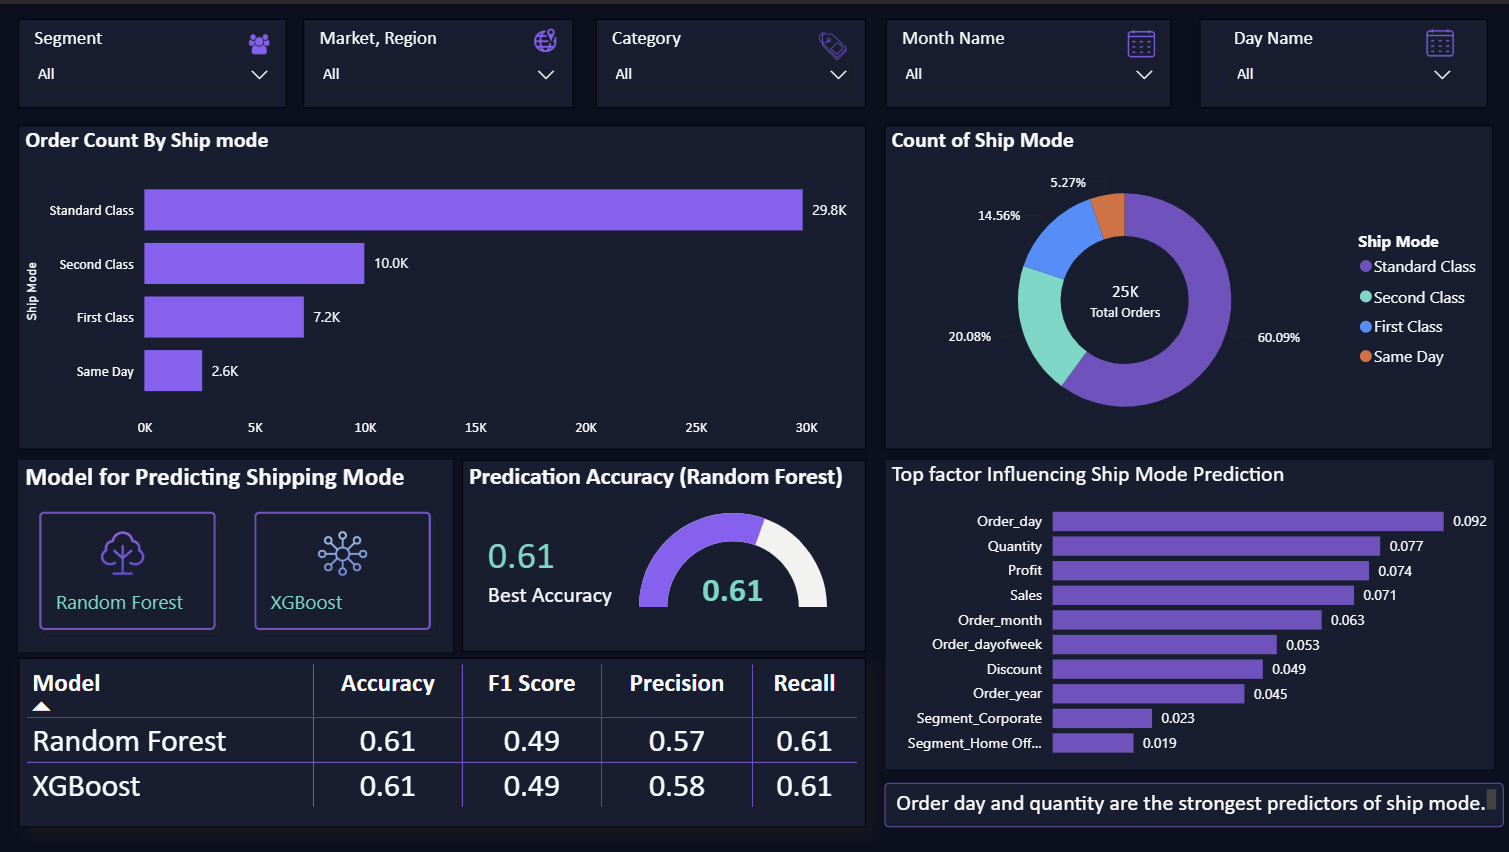

The page's visual inventory and layout, read from the dashboard file:
{"tool":"powerbi","page":{"name":"ShipMode Prediction","canvas":[1280,720],"ordinal":0},"visuals":[{"type":"pieChart","title":"Count of Ship Mode","fields":{"Category":["Product Sales Info.Ship Mode"],"Y":["CountNonNull(Product Sales Info.Ship Mode)"]},"box":[491.3,97.4,426.8,307.4],"z":0},{"type":"barChart","fields":{"Category":["Product Sales Info.Ship Mode"],"Y":["Product Sales Info.Order Count"]},"box":[10.5,97.7,473.3,307],"z":1000},{"type":"slicer","title":"Market and Region:","fields":{"Values":["Product Sales Info.Market","Product Sales Info.Region"]},"box":[930.2,94.2,336,76.7],"z":2000},{"type":"advancedSlicerVisual","fields":{"Values":["Product Sales Info.Category"]},"box":[930.2,184.9,168.6,190.7],"z":3000},{"type":"advancedSlicerVisual","fields":{"Values":["Product Sales Info.Month Name"]},"box":[930.2,381.4,336,139.5],"z":4000},{"type":"advancedSlicerVisual","fields":{"Values":["Product Sales Info.Day Name"]},"box":[10.5,4.7,1255.8,80.2],"z":5000},{"type":"advancedSlicerVisual","fields":{"Values":["Product Sales Info.Segment"]},"box":[1098.8,184.9,167.4,190.7],"z":6000},{"type":"tableEx","fields":{"Values":["Features Dataframe.Model","Features Dataframe.Accuracy","Features Dataframe.F1 Score","Features Dataframe.Precision","Features Dataframe.Recall"]},"box":[17.8,533.8,687.5,164.7],"z":7000},{"type":"advancedSlicerVisual","title":"Model for Predicting Shipping Mode","fields":{"Values":["Features Dataframe.Model"]},"box":[17.8,417.2,687.5,116.6],"z":8000},{"type":"slicer","fields":{"Values":["select columns.select columns"]},"box":[719.1,536.7,177.1,164.3],"z":9000},{"type":"slicer","title":"Sales","fields":{"Values":["Product Sales Info.Sales"]},"box":[930.2,520.9,336,95.3],"z":10000},{"type":"slicer","title":"Profit","fields":{"Values":["Product Sales Info.Profit"]},"box":[930.2,616.3,336,103.5],"z":11000},{"type":"textbox","box":[719,417.2,199,90.6],"z":12000}]}

Visuals, with their boxes in screenshot pixels (x1, y1, x2, y2), scaled from the page's 1280x720 canvas onto the 1509x852 screenshot:
"Count of Ship Mode" pieChart: box(579, 115, 1082, 479)
barChart - Product Sales Info.Ship Mode x Product Sales Info.Order Count: box(12, 116, 570, 479)
"Market and Region:" slicer: box(1097, 111, 1493, 202)
advancedSlicerVisual - Product Sales Info.Category: box(1097, 219, 1295, 444)
advancedSlicerVisual - Product Sales Info.Month Name: box(1097, 451, 1493, 616)
advancedSlicerVisual - Product Sales Info.Day Name: box(12, 6, 1493, 100)
advancedSlicerVisual - Product Sales Info.Segment: box(1295, 219, 1493, 444)
tableEx - Features Dataframe.Model x Features Dataframe.Accuracy: box(21, 632, 831, 827)
"Model for Predicting Shipping Mode" advancedSlicerVisual: box(21, 494, 831, 632)
slicer - select columns.select columns: box(848, 635, 1057, 830)
"Sales" slicer: box(1097, 616, 1493, 729)
"Profit" slicer: box(1097, 729, 1493, 851)
textbox: box(848, 494, 1082, 601)
